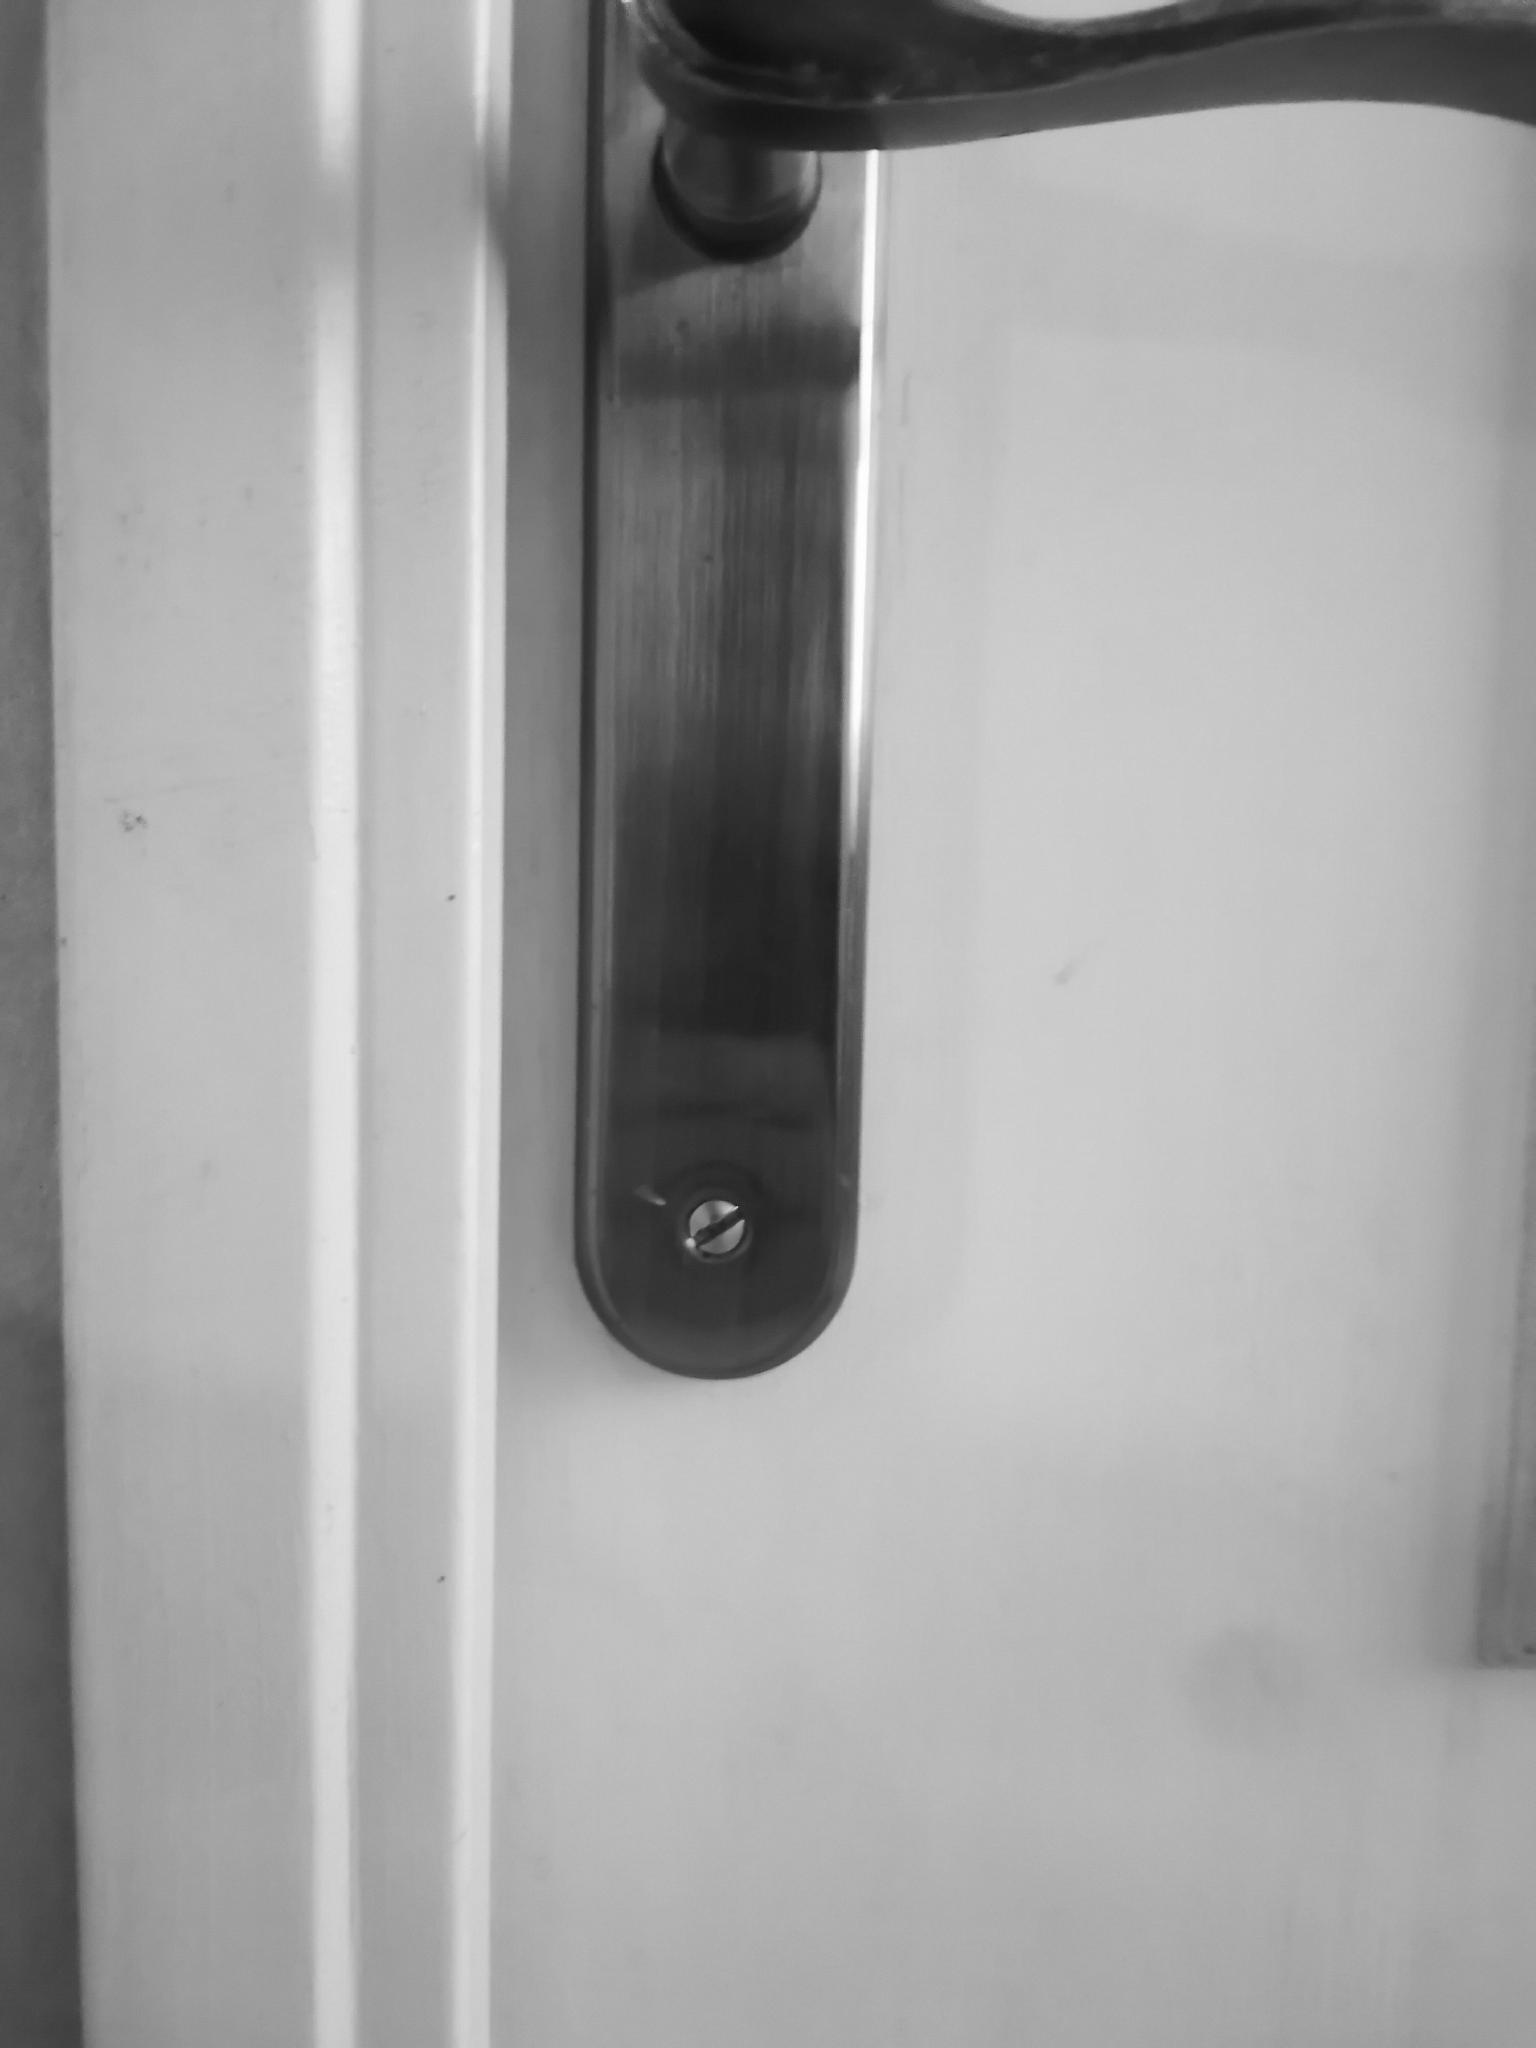screw: (684, 1195, 752, 1264)
